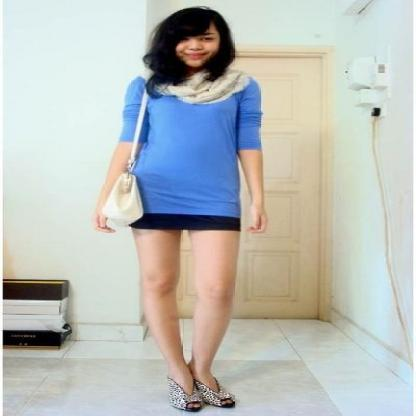bag: (103, 179, 141, 224)
shirt: (120, 78, 261, 219)
shoe: (150, 364, 235, 415)
skirt: (129, 211, 239, 231)
